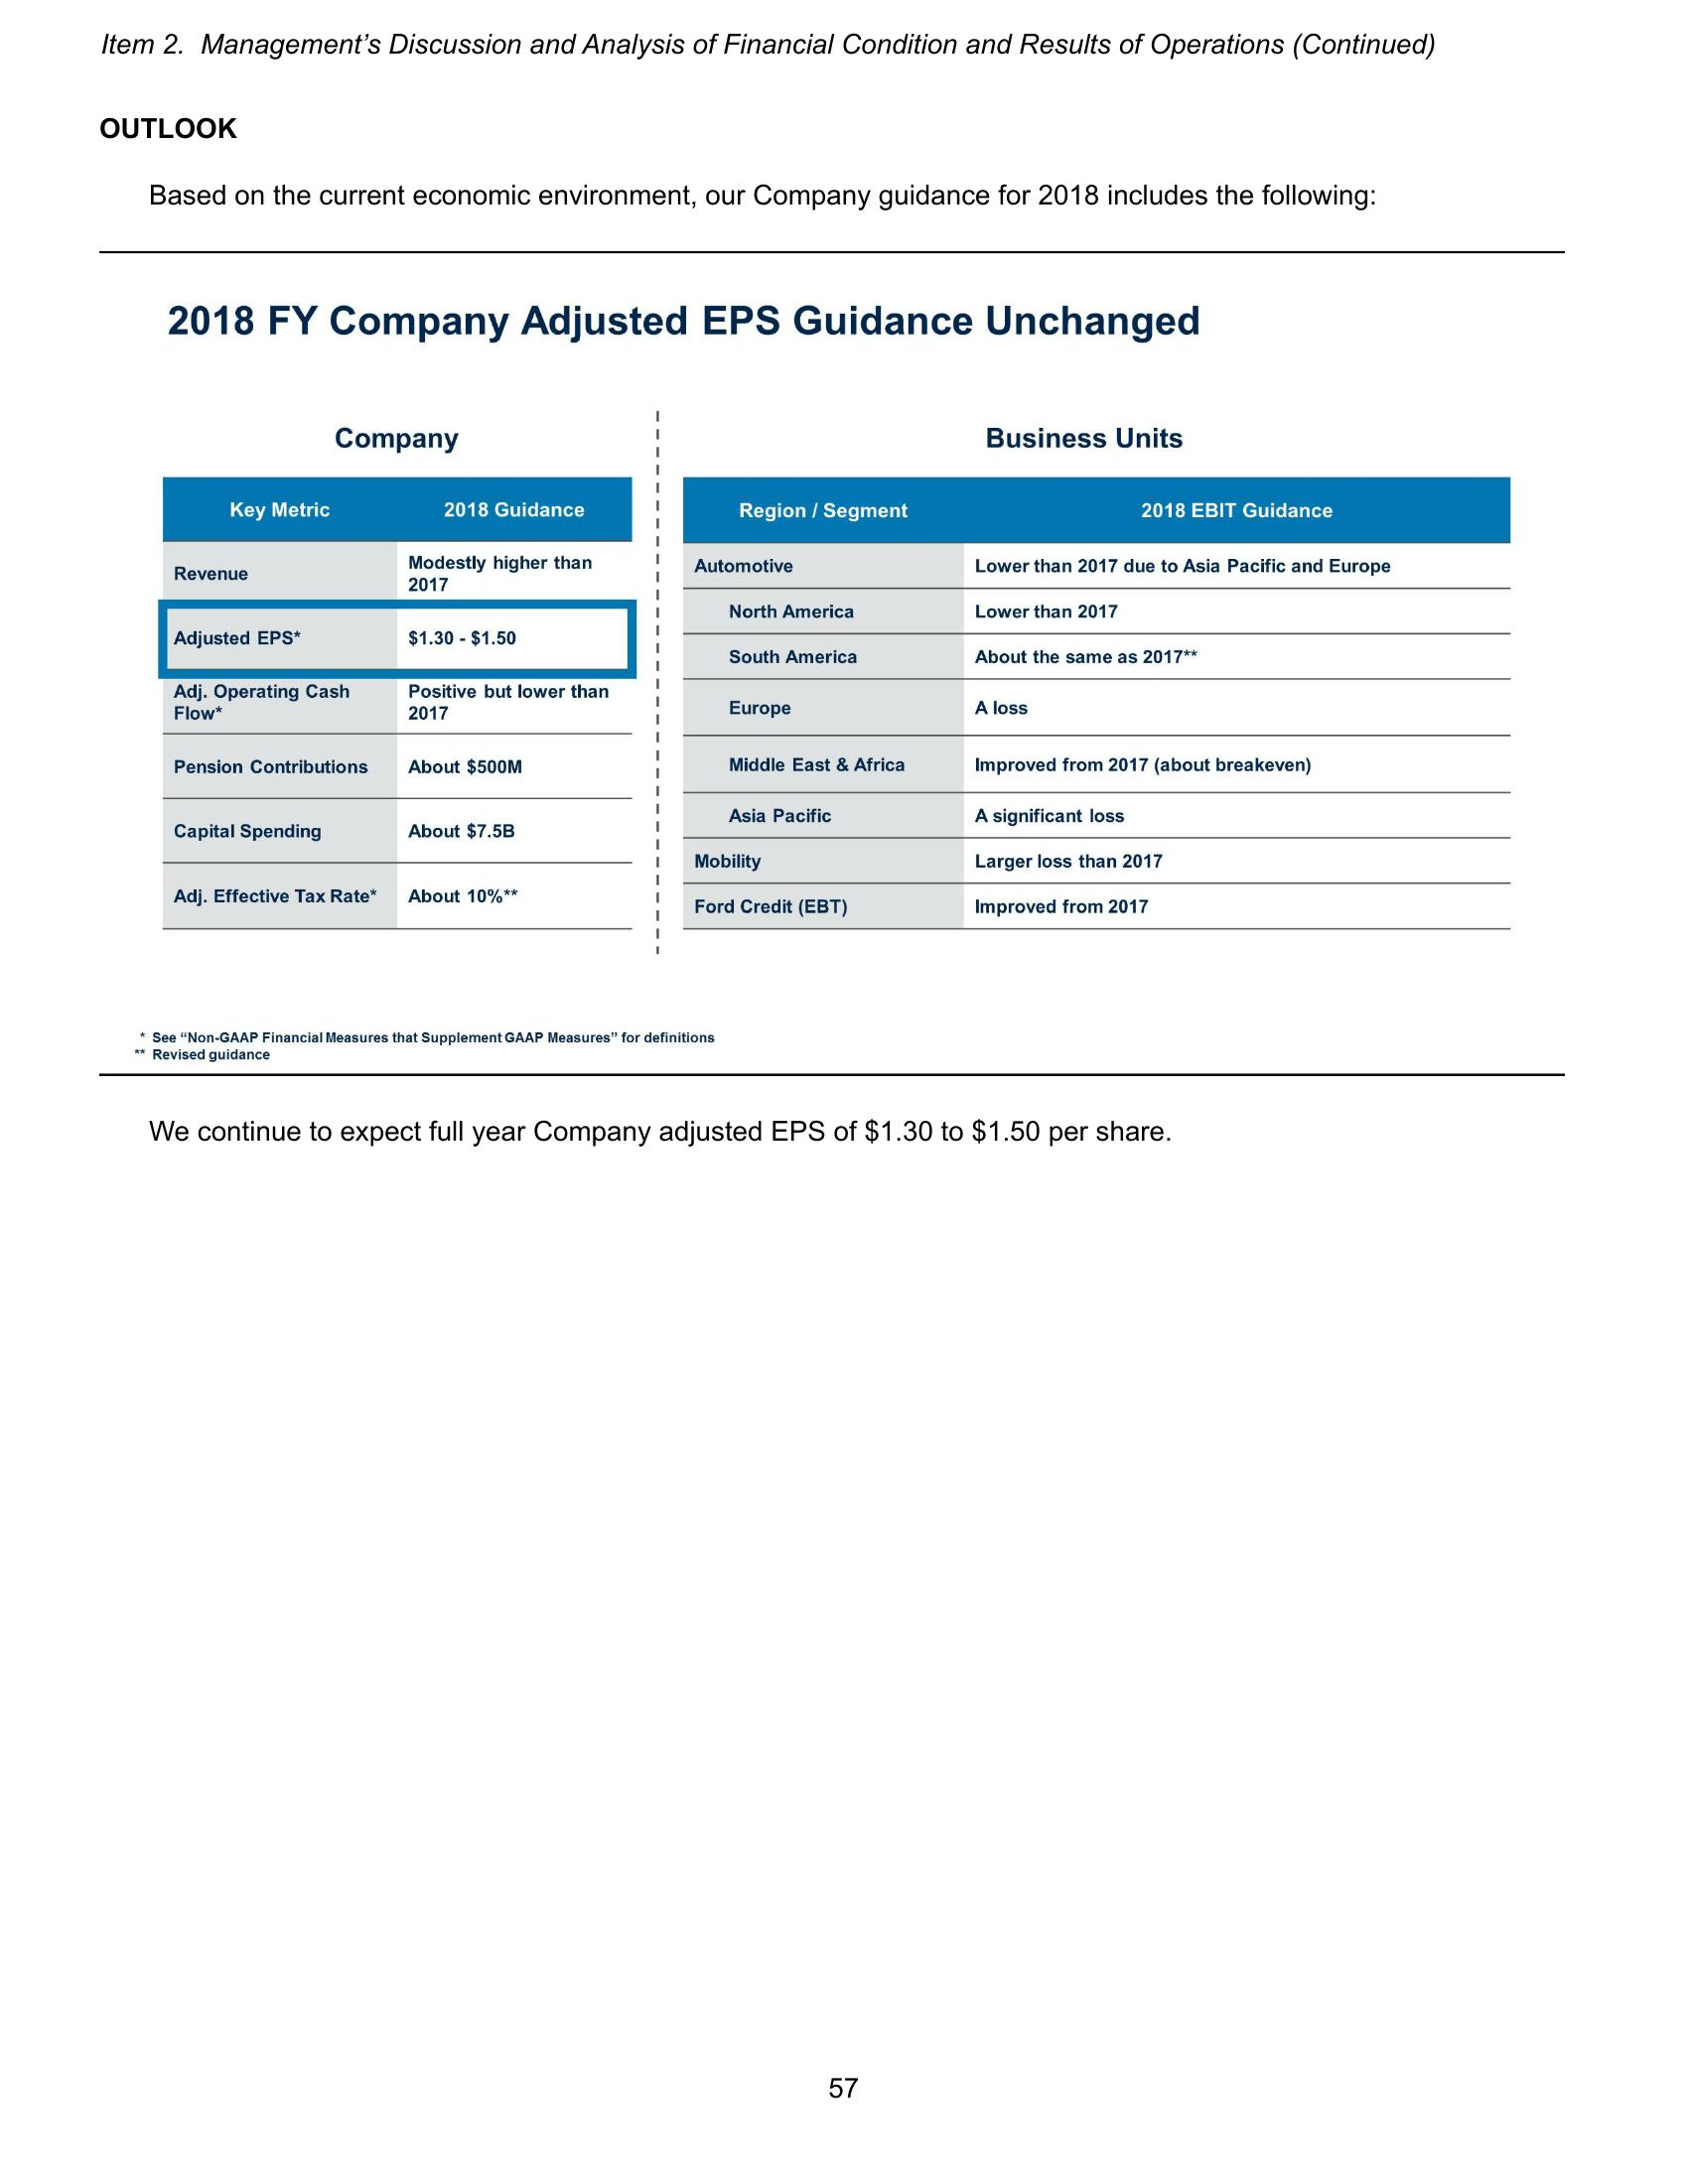table: (154, 411, 1518, 938)
